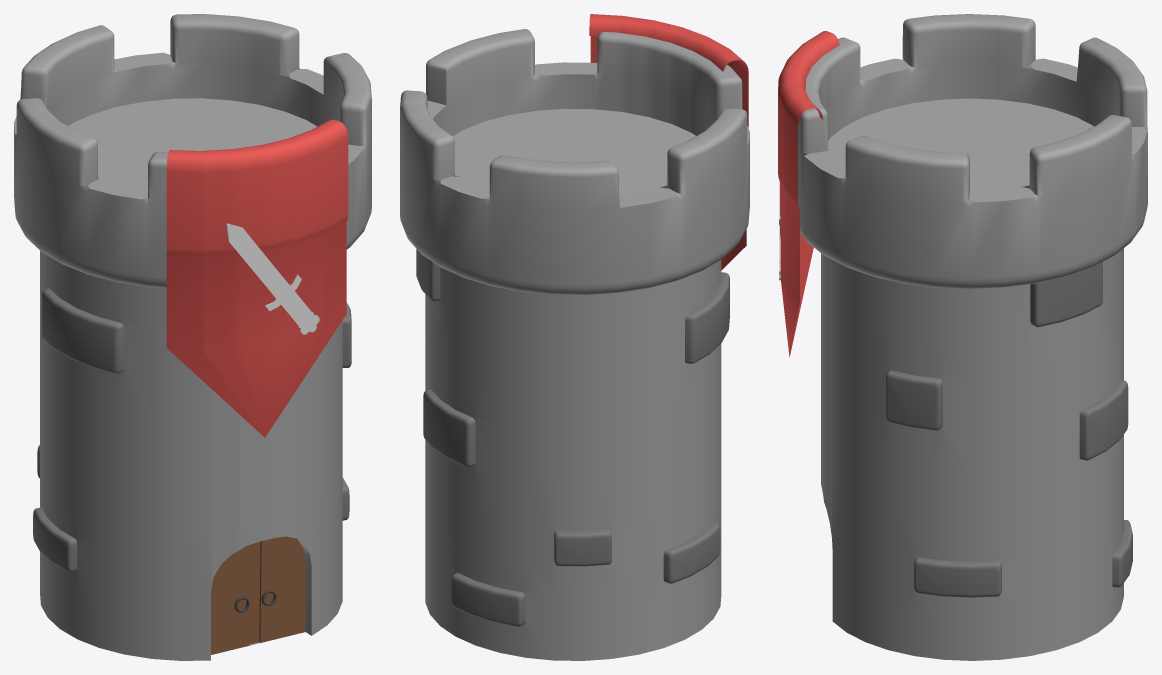
File: sword tower.fbx
3 renders of one model, left to right at view 1: azimuth 30°, elevation 25°; view 2: azimuth 150°, elevation 25°; view 3: azimuth 270°, elevation 25°, orthographic. The views are drawn at different scales.
Parts seen in each view (by area): view 1: Cylinder.010, Plane.001; view 2: Cylinder.010; view 3: Cylinder.010.
Part boxes in pixels (box(x1,y1,x2,y2)): Cylinder.010: box(14, 14, 371, 660); Plane.001: box(226, 223, 319, 334); Cylinder.010: box(400, 14, 749, 660); Cylinder.010: box(778, 14, 1147, 660).
Size of the model in its own units: 460 by 738 by 476.
